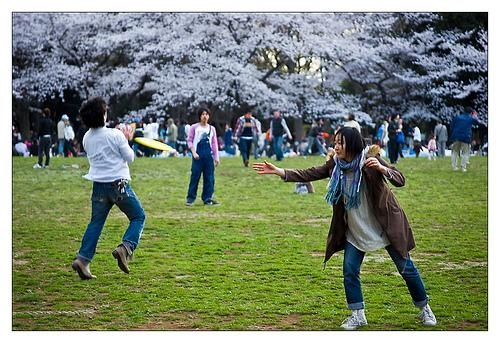person: (252, 120, 442, 330), (60, 97, 145, 282), (181, 105, 229, 208), (448, 105, 483, 171), (233, 109, 262, 165), (34, 107, 57, 169), (385, 110, 410, 167), (268, 107, 292, 161)
